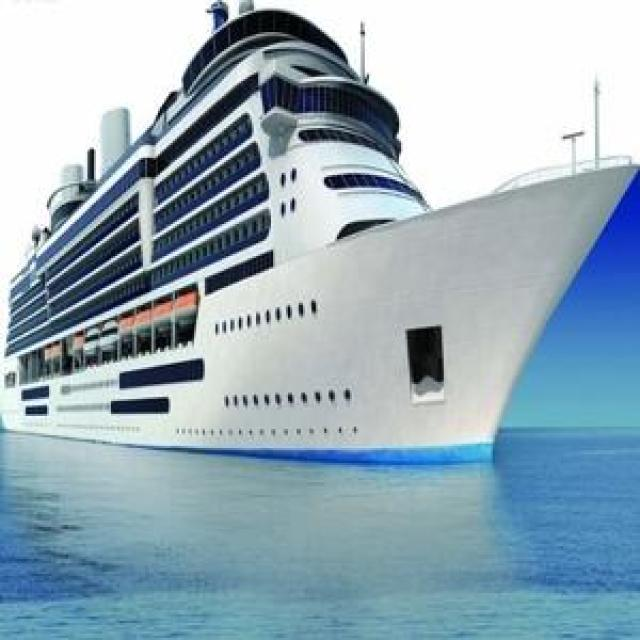passenger ship: (2, 2, 638, 460)
